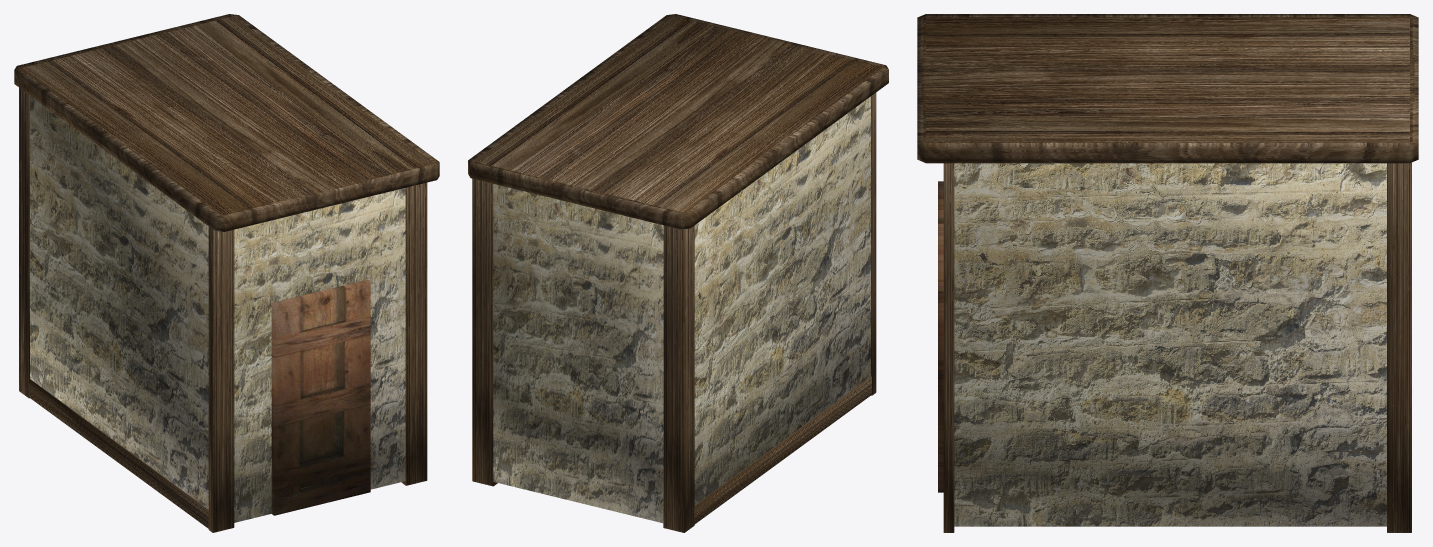
The model's file is puerta.obj.
The picture shows the model from 3 angles, left to right: view 1: azimuth 30°, elevation 25°; view 2: azimuth 150°, elevation 25°; view 3: azimuth 270°, elevation 25°; orthographic projection. The views are drawn at different scales.
Parts seen in each view (by area): view 1: Box001, Box002, Object001, Box005, Box006, Box007, Box003; view 2: Box001, Box002, Box003, Box004, Box007, Box005; view 3: Box001, Box002, Box004, Box006, Object001.
Part boxes in pixels (<box>): Box001: <box>30,96,405,522</box>; Box002: <box>14,14,439,231</box>; Object001: <box>271,279,370,515</box>; Box005: <box>208,226,234,532</box>; Box006: <box>401,182,427,485</box>; Box007: <box>29,379,208,528</box>; Box003: <box>19,87,29,398</box>; Box001: <box>493,96,870,523</box>; Box002: <box>468,14,888,229</box>; Box003: <box>663,225,694,532</box>; Box004: <box>472,178,497,486</box>; Box007: <box>693,376,871,524</box>; Box005: <box>871,92,876,395</box>; Box001: <box>954,163,1386,526</box>; Box002: <box>917,14,1418,163</box>; Box004: <box>1387,162,1411,532</box>; Box006: <box>943,163,954,532</box>; Object001: <box>938,181,943,492</box>.
Bounding box in the file's own units: 16.92 × 23.25 × 27.1.
